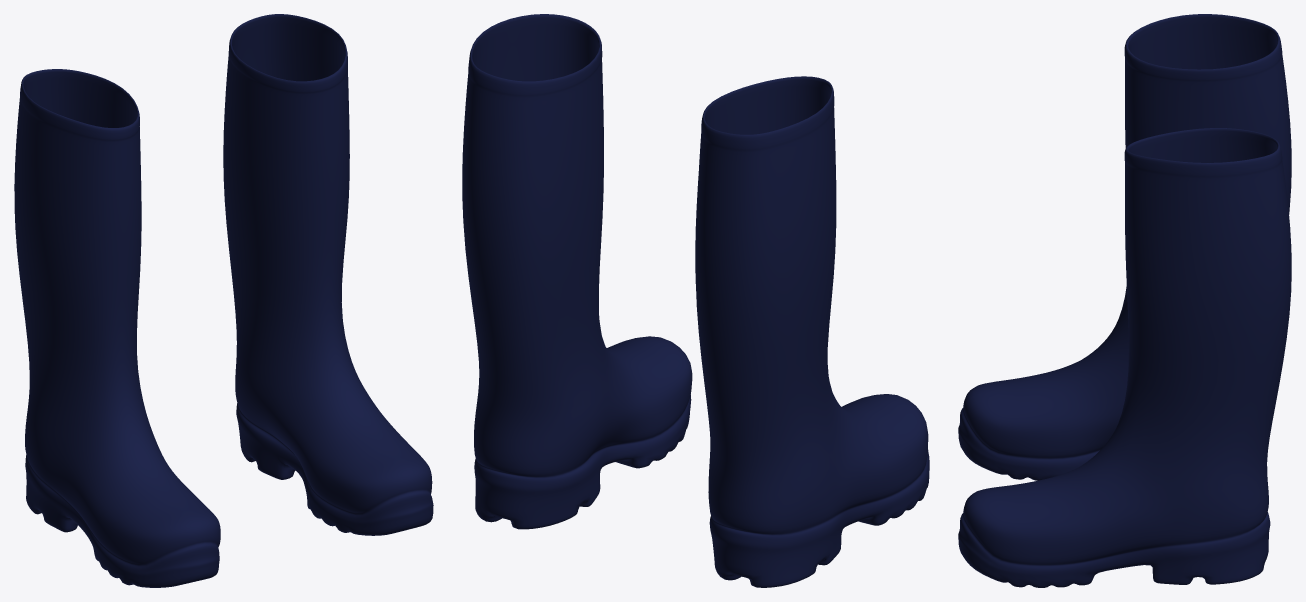
The model's file is botas_basura.glb.
3 renders of one model, left to right at view 1: azimuth 30°, elevation 25°; view 2: azimuth 150°, elevation 25°; view 3: azimuth 270°, elevation 25°, orthographic. The views are drawn at different scales.
Parts seen in each view (by area): view 1: rubber_boots_dirt_r_LOD0, rubber_boots_dirty_l_LOD0; view 2: rubber_boots_dirty_l_LOD0, rubber_boots_dirt_r_LOD0; view 3: rubber_boots_dirty_l_LOD0, rubber_boots_dirt_r_LOD0.
Part boxes in pixels (x1,y1,x2,y2): rubber_boots_dirt_r_LOD0: (14, 69, 220, 587); rubber_boots_dirty_l_LOD0: (223, 14, 433, 535); rubber_boots_dirty_l_LOD0: (462, 14, 692, 529); rubber_boots_dirt_r_LOD0: (695, 76, 929, 587); rubber_boots_dirty_l_LOD0: (958, 128, 1291, 587); rubber_boots_dirt_r_LOD0: (958, 14, 1291, 480).
Bounding box in the file's own units: 0.2907 × 0.3728 × 0.2662.
